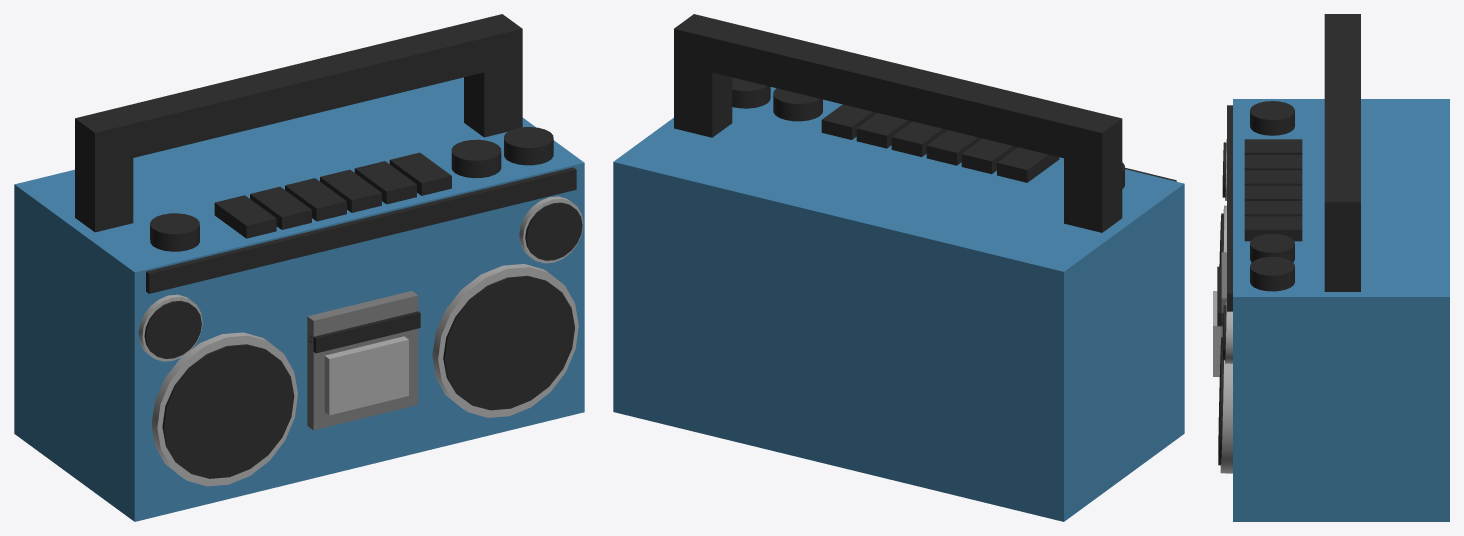
The model's file is boom.fbx.
The picture shows the model from 3 angles, left to right: view 1: azimuth 30°, elevation 25°; view 2: azimuth 150°, elevation 25°; view 3: azimuth 270°, elevation 25°; orthographic projection. The views are drawn at different scales.
Parts seen in each view (by area): view 1: pCube1, pCube7, pCylinder2, pCylinder5, pCube3, pCube2, pCube14, pCylinder6, pCylinder4, pCylinder11, pCylinder9, pCube4 (+11 smaller); view 2: pCube1, pCube7, pCube13, pCylinder14, pCube8, pCube9, pCube10, pCube11, pCube12, pCylinder16; view 3: pCube1, pCube7, pCylinder13, pCylinder16, pCube12, pCube3, pCylinder6, pCylinder14, pCube9, pCube13, pCube8, pCube10 (+6 smaller).
Part boxes in pixels (box(x1,y1,x2,y2)): pCube1: box(14, 77, 584, 521); pCube7: box(75, 14, 522, 232); pCylinder2: box(162, 344, 294, 478); pCylinder5: box(443, 275, 574, 410); pCube3: box(146, 167, 576, 293); pCube2: box(307, 291, 418, 430); pCube14: box(324, 336, 408, 415); pCylinder6: box(432, 264, 578, 417); pCylinder4: box(151, 332, 297, 486); pCylinder11: box(525, 202, 582, 260); pCylinder9: box(144, 300, 201, 358); pCube4: box(307, 311, 420, 353); pCube1: box(613, 87, 1184, 521); pCube7: box(674, 14, 1122, 232); pCube13: box(997, 147, 1059, 182); pCylinder14: box(773, 88, 822, 121); pCube8: box(961, 138, 1017, 174); pCube9: box(926, 130, 982, 165); pCube10: box(891, 121, 947, 156); pCube11: box(856, 113, 912, 148); pCube12: box(821, 104, 876, 139); pCylinder16: box(732, 77, 770, 108); pCube1: box(1233, 99, 1449, 521); pCube7: box(1324, 14, 1360, 291); pCylinder13: box(1250, 101, 1294, 135); pCylinder16: box(1250, 256, 1294, 291); pCube12: box(1244, 216, 1302, 241); pCube3: box(1227, 105, 1232, 311); pCylinder6: box(1220, 360, 1232, 473); pCylinder14: box(1250, 233, 1294, 262); pCube9: box(1244, 170, 1302, 185); pCube13: box(1244, 139, 1302, 154); pCube8: box(1244, 155, 1302, 170); pCube10: box(1244, 185, 1302, 200).
Size of the model in its own units: 4.3 by 3.19 by 2.17.
